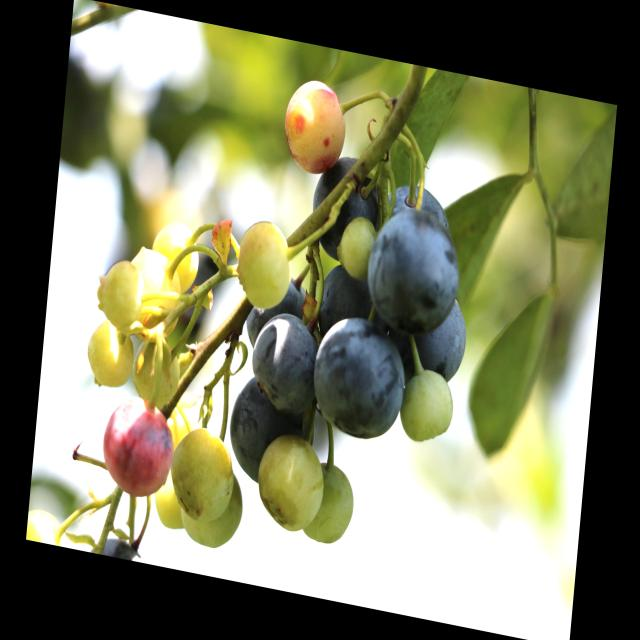blueberry: (362, 201, 465, 338), (310, 306, 410, 444), (229, 384, 316, 486), (245, 303, 322, 413), (311, 258, 370, 332)
blueberry-halfripe: (97, 391, 179, 503), (281, 74, 351, 183)
blueberry-unripe: (257, 428, 329, 541), (169, 421, 237, 526), (180, 461, 251, 555), (236, 210, 300, 314), (126, 240, 182, 347), (299, 456, 358, 552), (89, 250, 147, 339), (398, 361, 458, 447), (150, 214, 203, 298), (128, 330, 184, 406), (332, 208, 381, 286), (85, 318, 133, 392)
